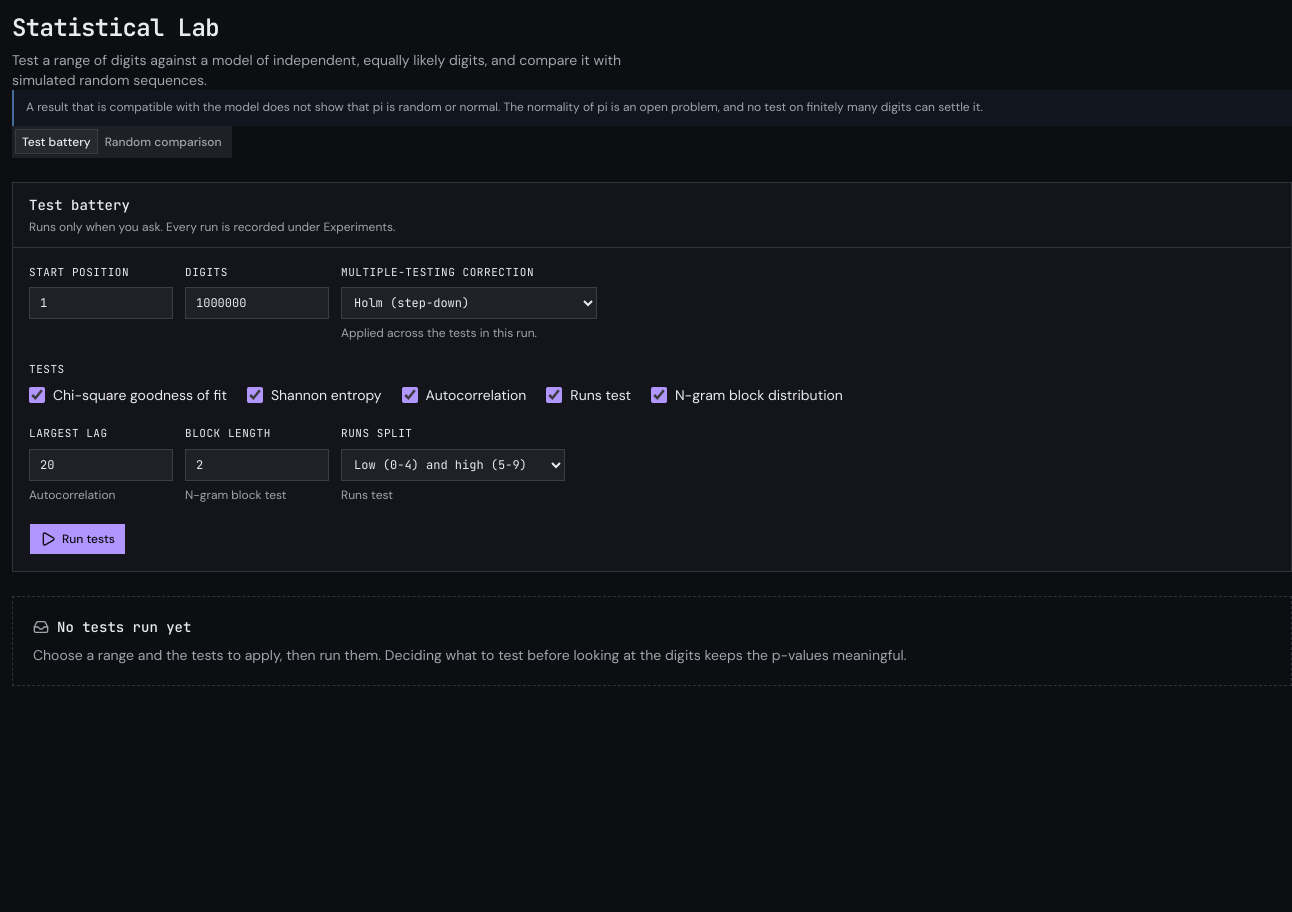
Scenario: LabView test battery › enforces the server's lag limit
Replace the text in the field labelled "Largest lag" with "500": (101, 465) [29,449,173,481]
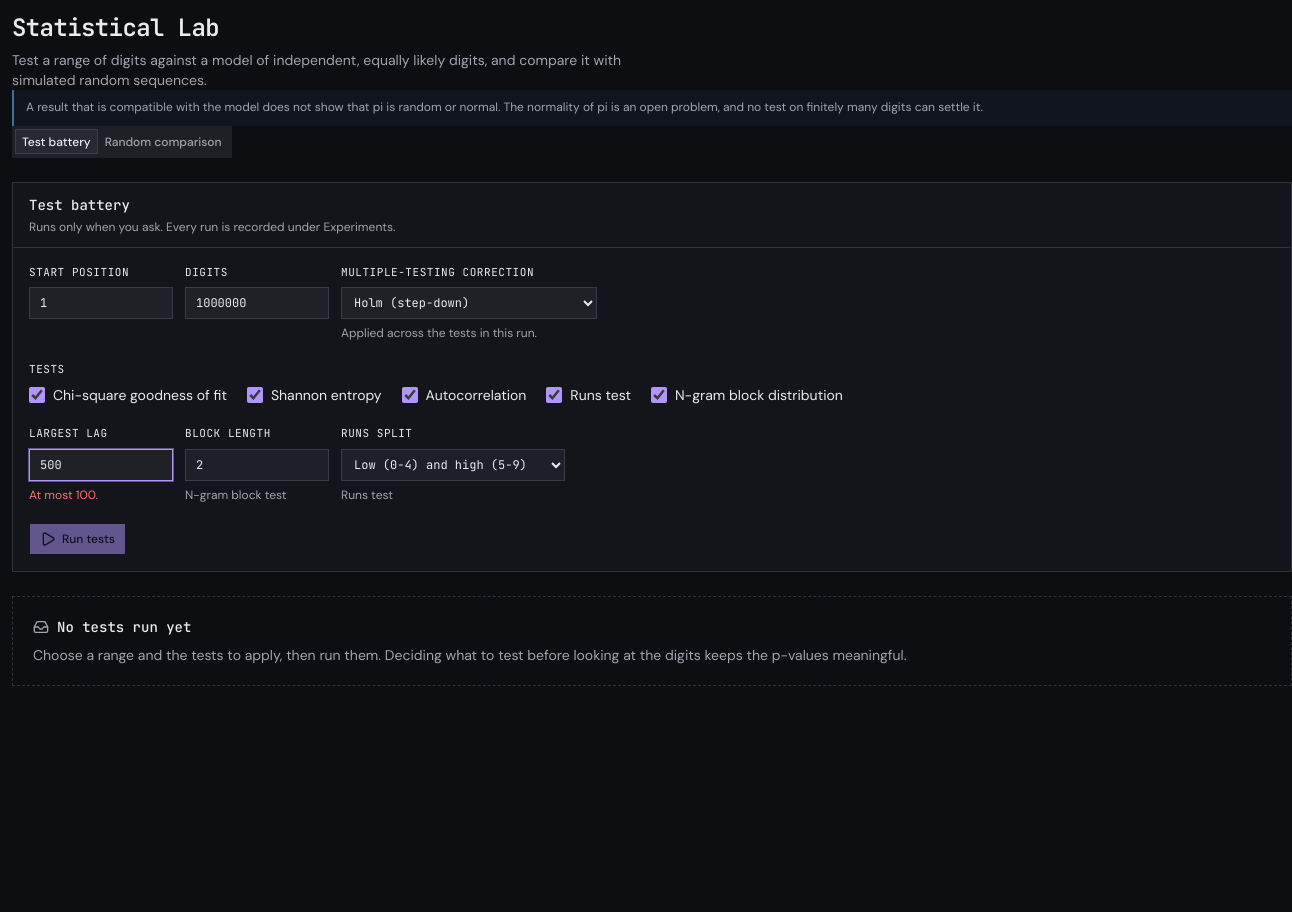
Now the button "Run tests" is disabled, box [29,523,126,555]
Now the text "At most 100." is shown, box [29,487,98,503]
